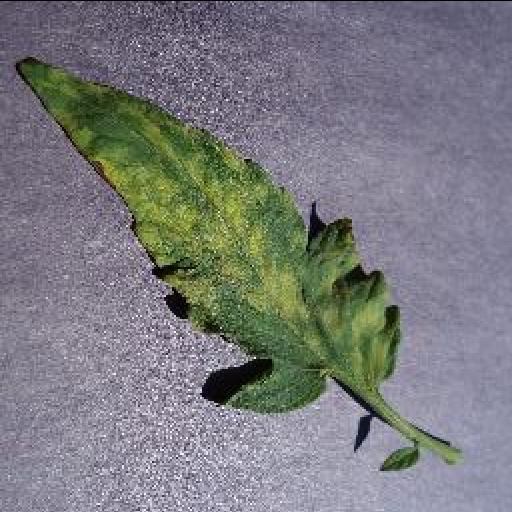disease_tomato: (12, 60, 402, 410)
